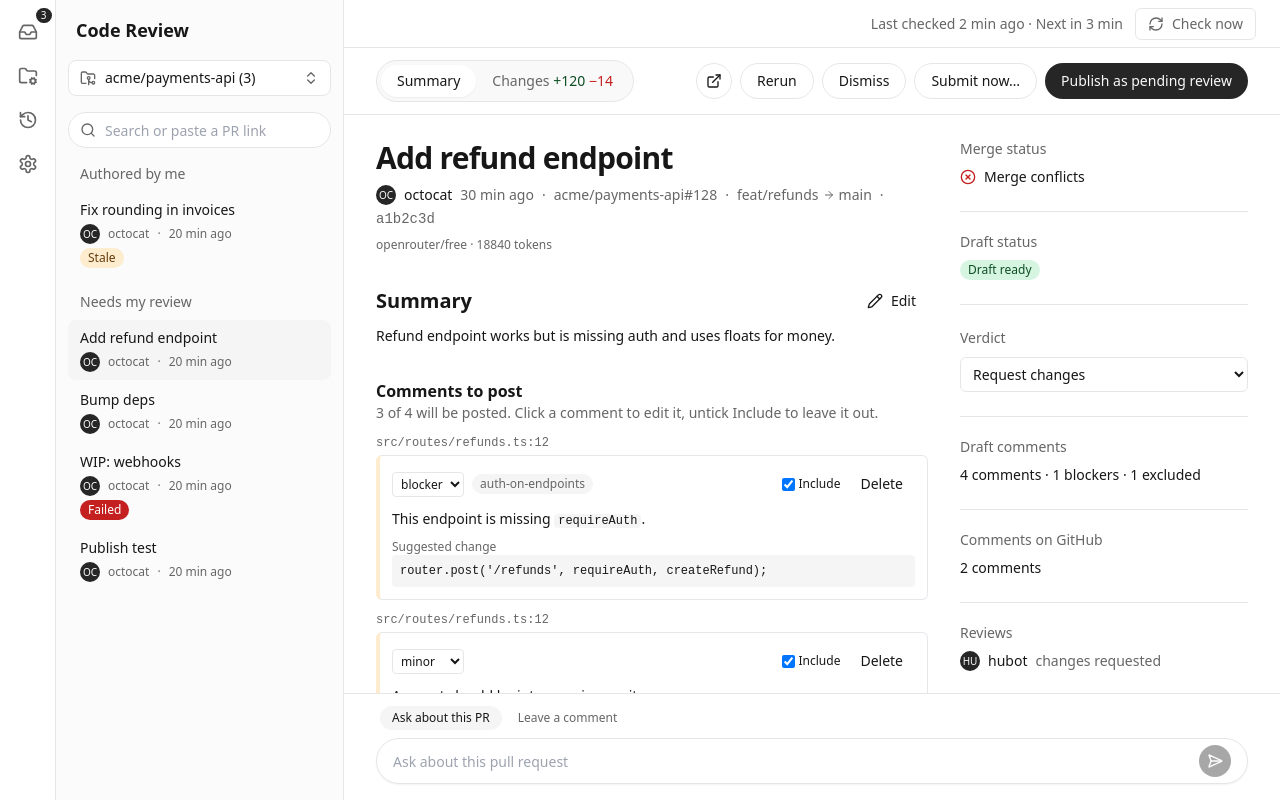
PR status and questions › answers a question about the PR without touching the review
Expected: the button named "Ask" is disabled, [1199,745,1231,777]
Type "What changed?" into the field labelled "Ask about this pull request" at [792, 761], box [393,745,1191,777]
Then press Enter
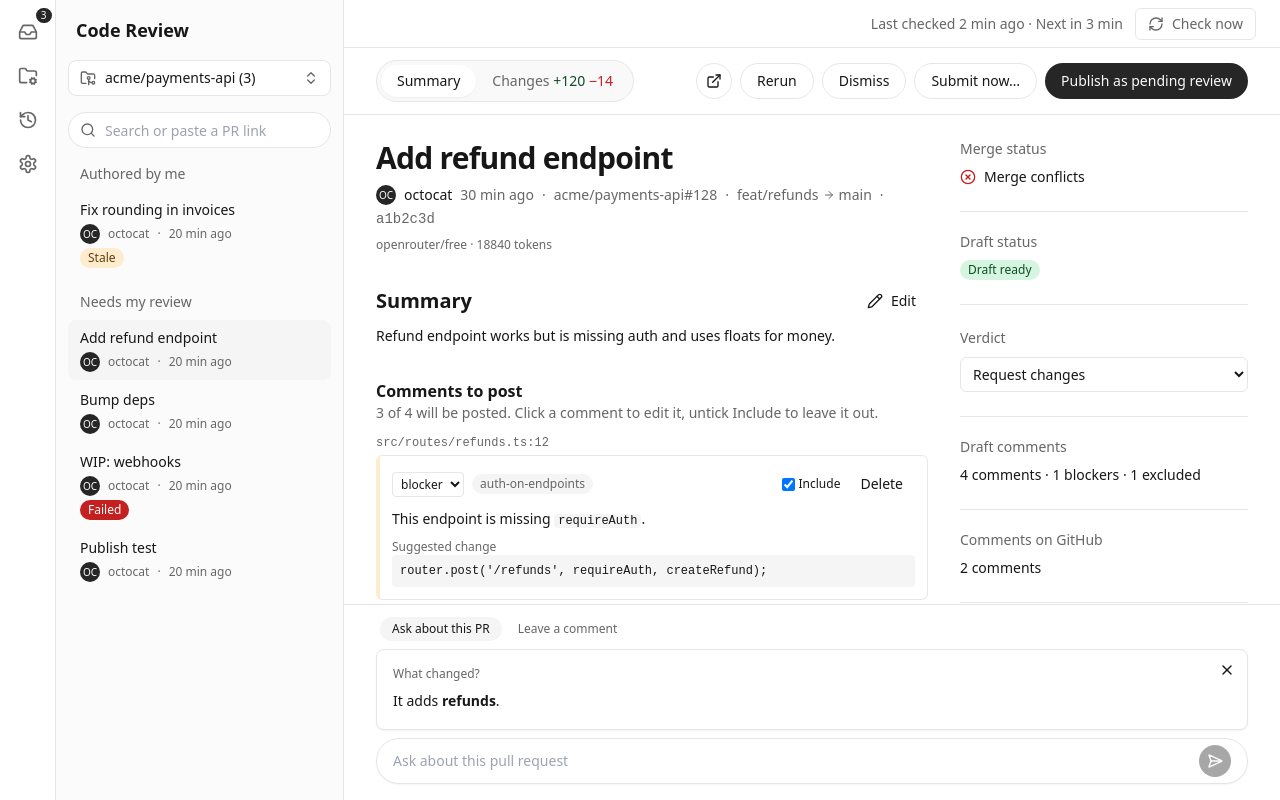
Expected: the text "refunds" is shown, [442,691,496,710]
Click the button named "Close answer" at [1227, 670], box [1215,658,1239,682]
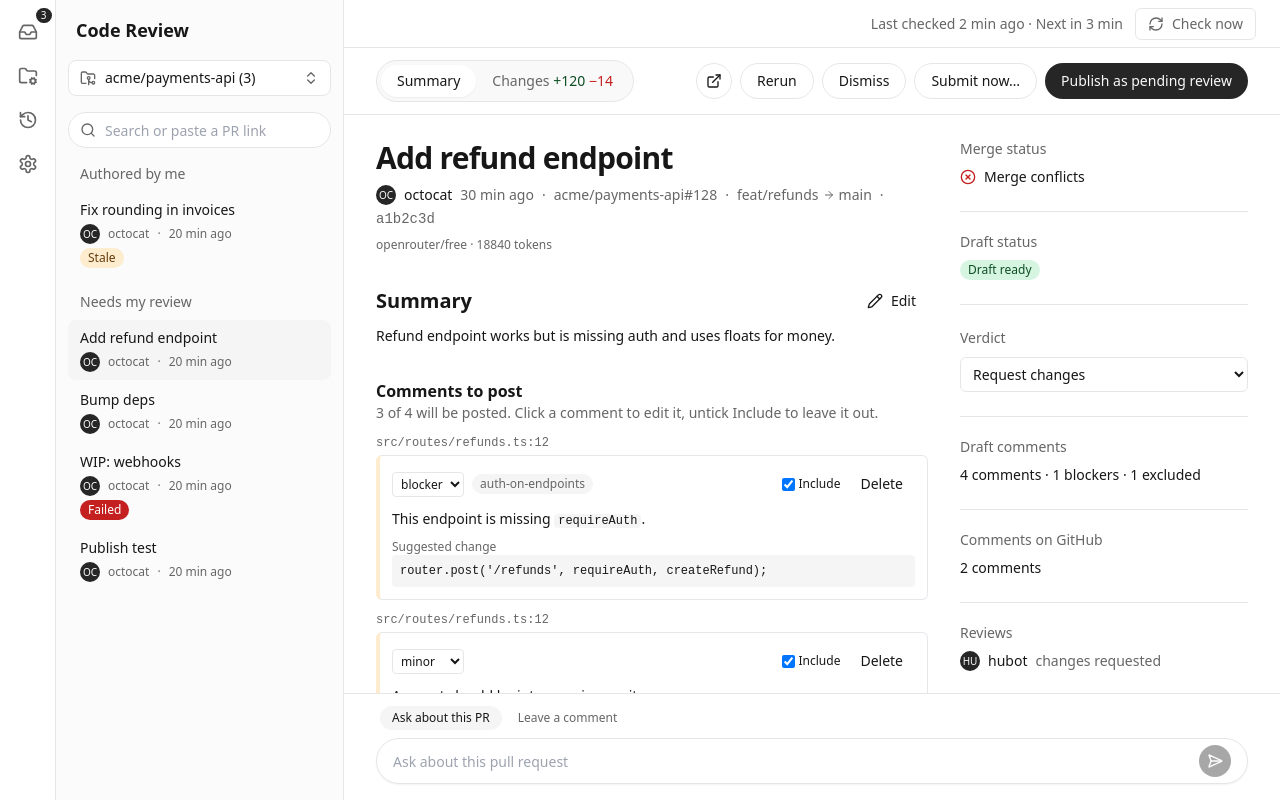
Expected: the button "Answer" is gone
